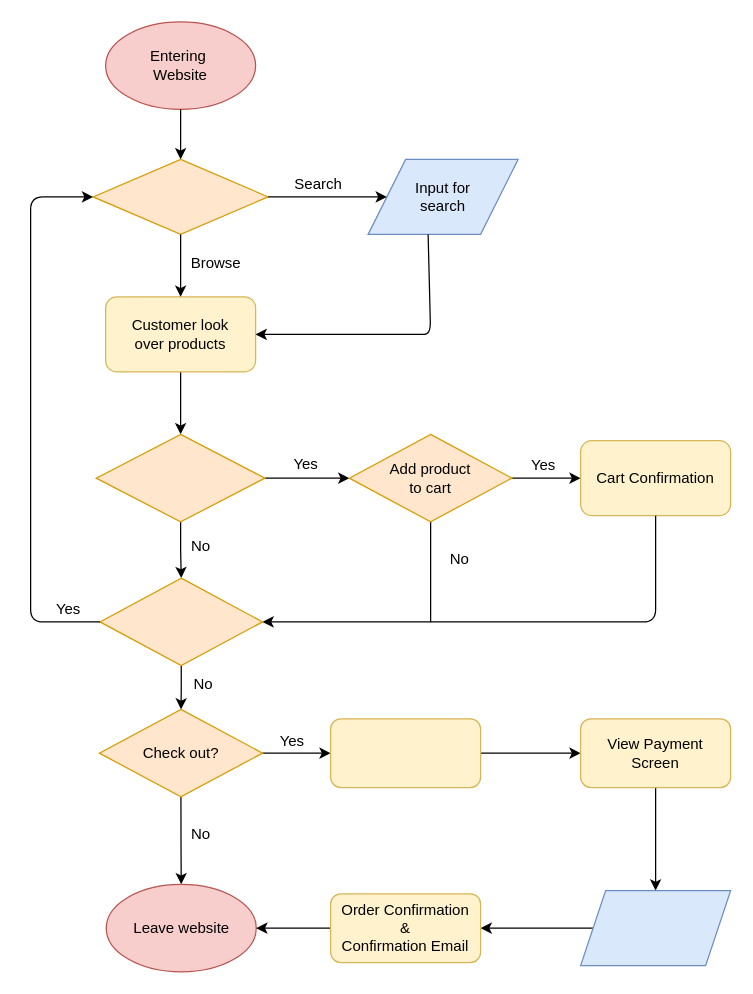
This 753x994 diagram has some shape labels left out. The shapes that lost their labels are listed below. From the top down, each one's centre as x and y in pixels, then its label:
the point at 180,196: Search or Browse
the point at 180,477: view a specific product
the point at 180,621: Continue shopping?
the point at 405,753: View Cart Screen
the point at 655,927: Input Payment Information
